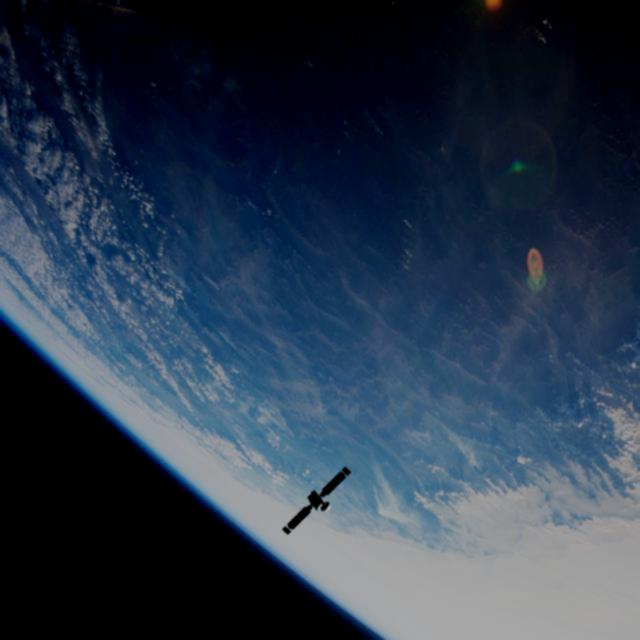satellite: (271, 462, 358, 540)
